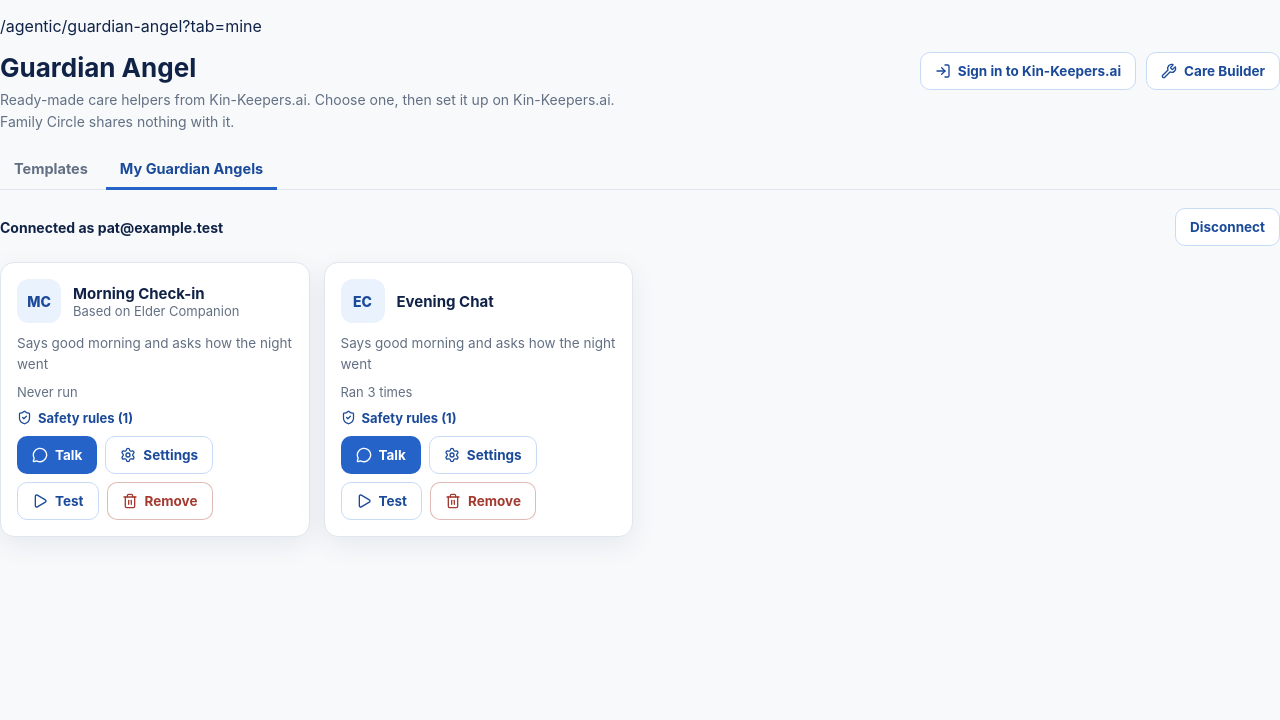
Scenario: My Guardian Angels › keeps the angel when removing is cancelled
What coordinates should you click on to do the following:
click the button "Remove" below "Never run"
I would click on:
 (160, 501)
Its box is [106, 482, 212, 520].
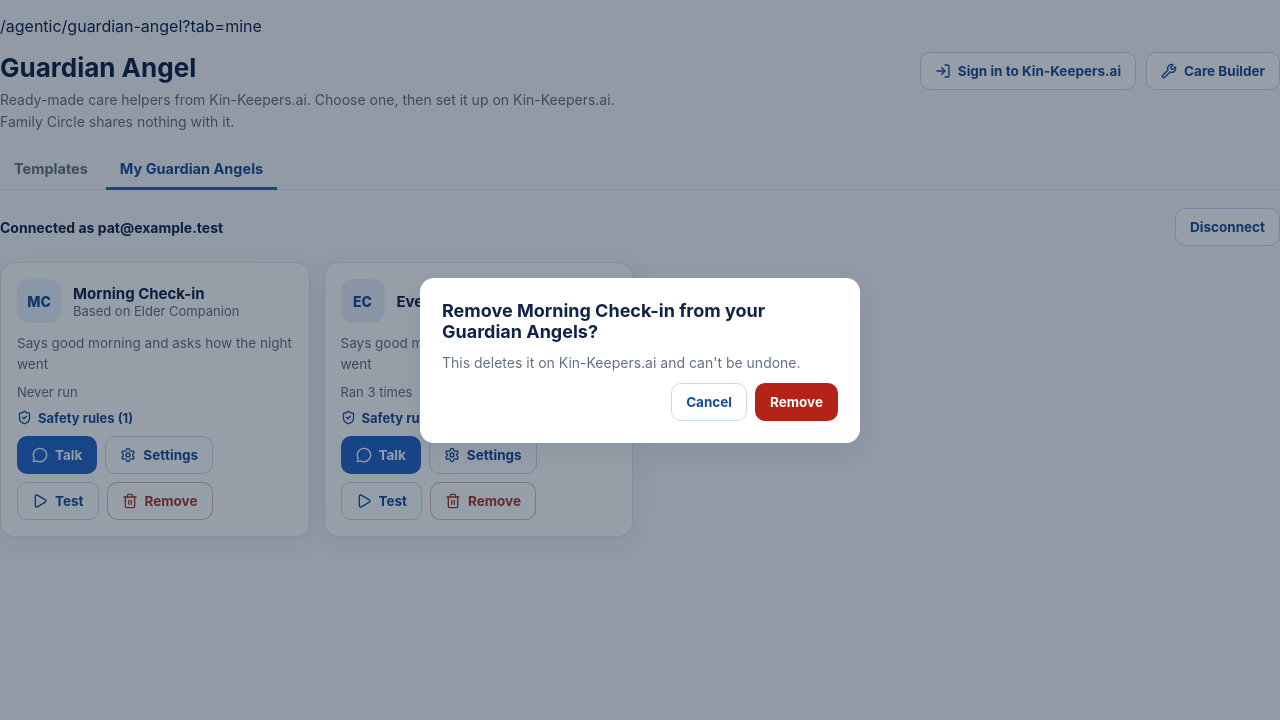
What coordinates should you click on to do the following:
click the button "Cancel"
I would click on:
 (709, 402)
Its box is [671, 382, 747, 420].
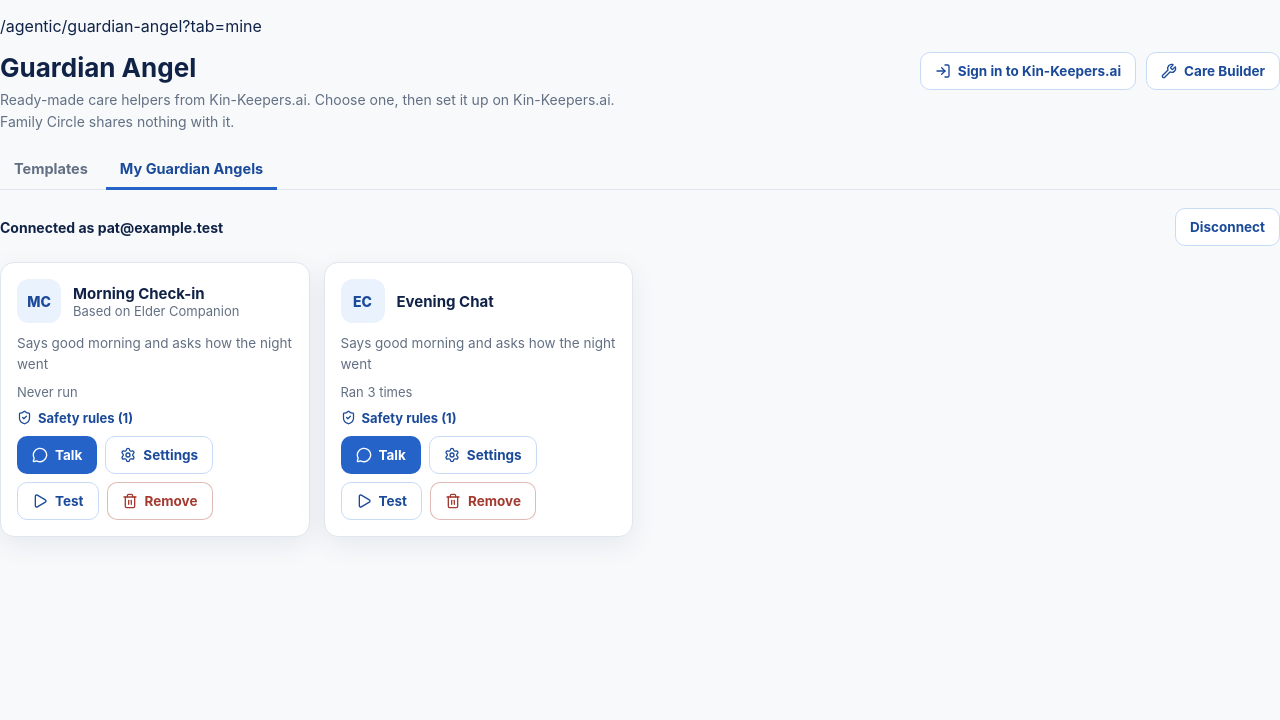
Expected: the dialog is gone
